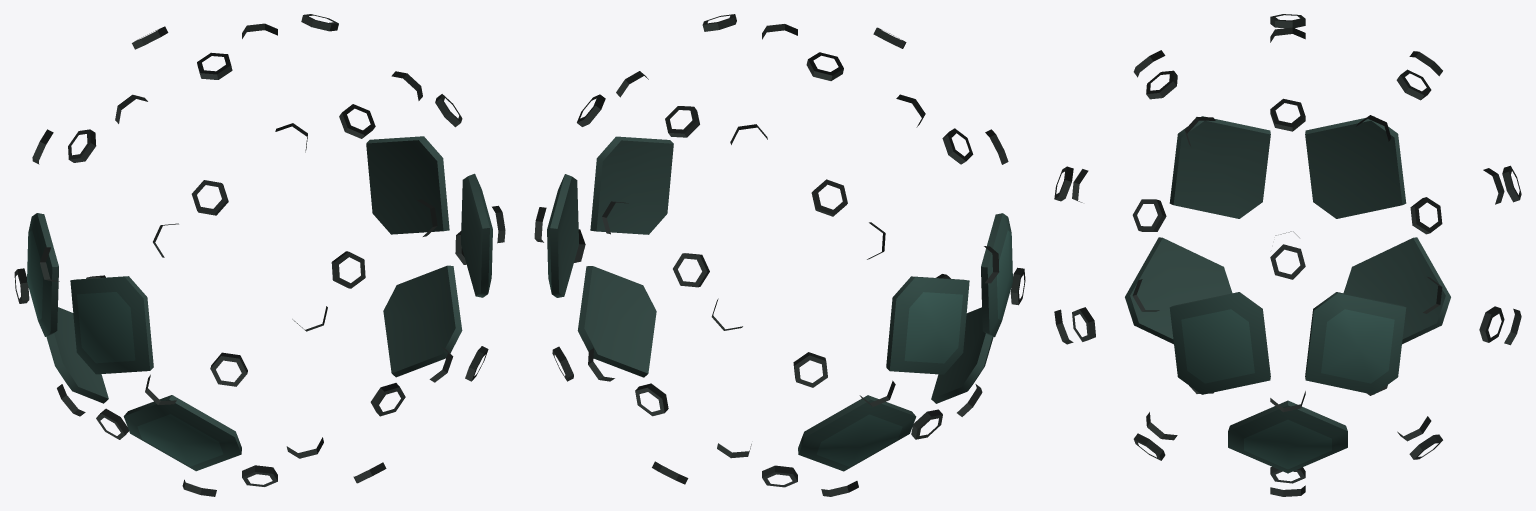
File: shell_cannon_c3.glb
The picture shows the model from 3 angles, left to right: view 1: azimuth 30°, elevation 25°; view 2: azimuth 150°, elevation 25°; view 3: azimuth 270°, elevation 25°; orthographic projection.
Visible parts, largest first — view 1: Carapace3, TreadCollars; view 2: Carapace3, TreadCollars; view 3: Carapace3, TreadCollars.
Boxes of the visible parts, box(x1,y1,x2,y2) form: Carapace3: box(27, 136, 492, 471); TreadCollars: box(14, 14, 505, 496); Carapace3: box(547, 136, 1012, 471); TreadCollars: box(534, 14, 1025, 496); Carapace3: box(1125, 116, 1450, 473); TreadCollars: box(1054, 14, 1521, 496).
Size of the model in its own units: 1.95 by 1.96 by 1.88.
